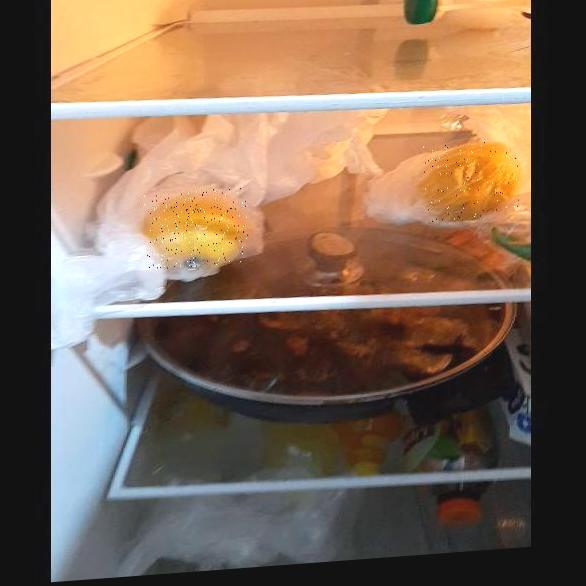lemon: (144, 186, 248, 270), (423, 139, 521, 224)
